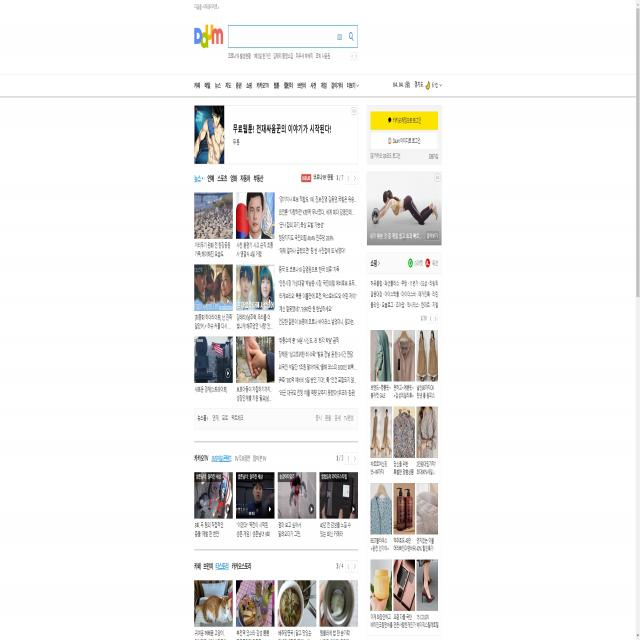search: (226, 22, 358, 49)
side-panel: (365, 103, 442, 640)
tab-bar: (191, 76, 360, 94)
